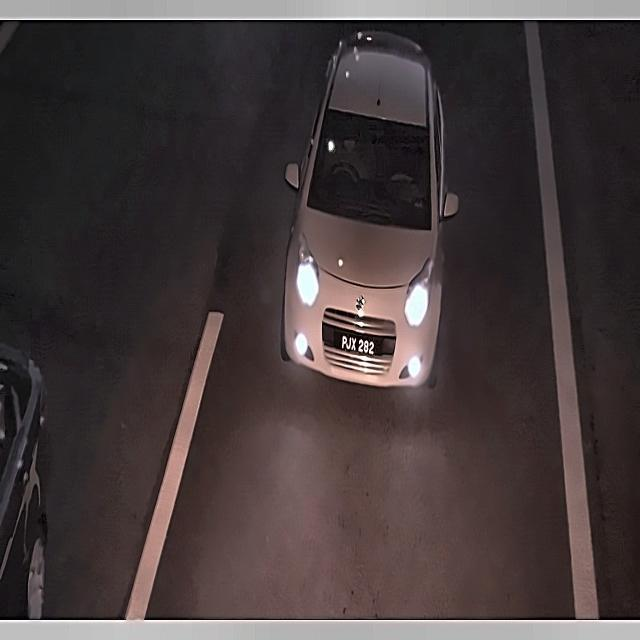car: (335, 330, 381, 365)
